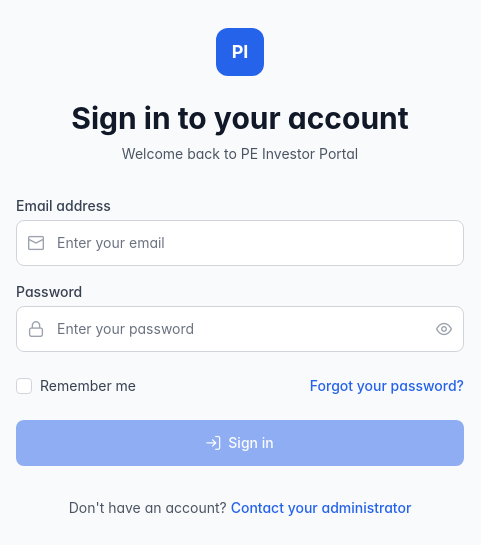
Test: LoginView › Form Validation › should show invalid email format error
# Set invalid email
Step 1. Type "invalid-email" into the field with id "email" → point(240, 243), box [16,220,464,266]
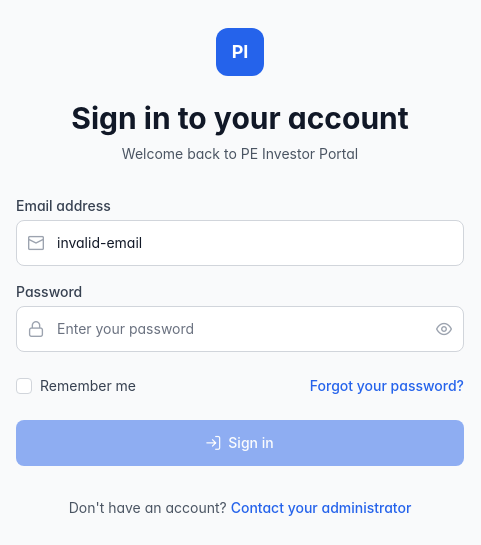
Step 2. Leave the field with id "email", box [16,220,464,266]
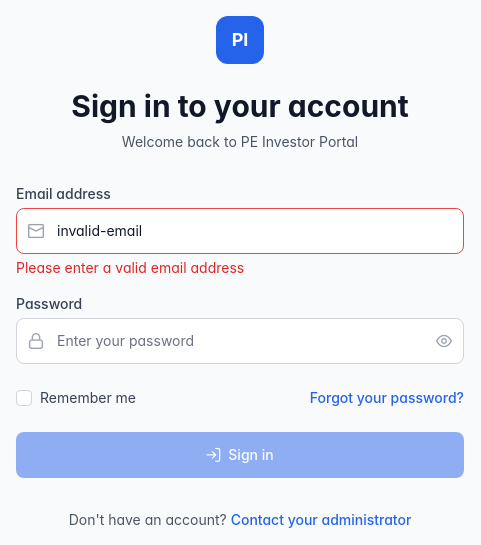
Expected: the text "Please enter a valid email address" is shown, [16,259,244,276]
